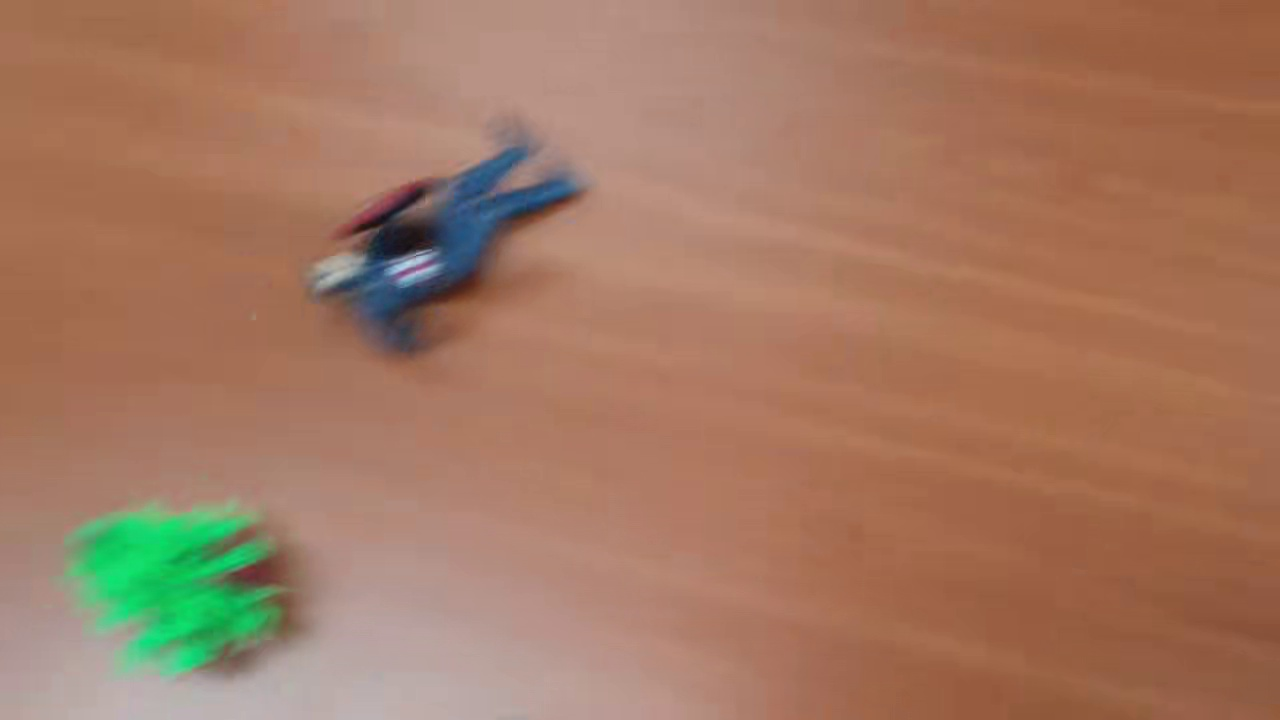people: (301, 112, 591, 362)
tree: (64, 480, 306, 684)
